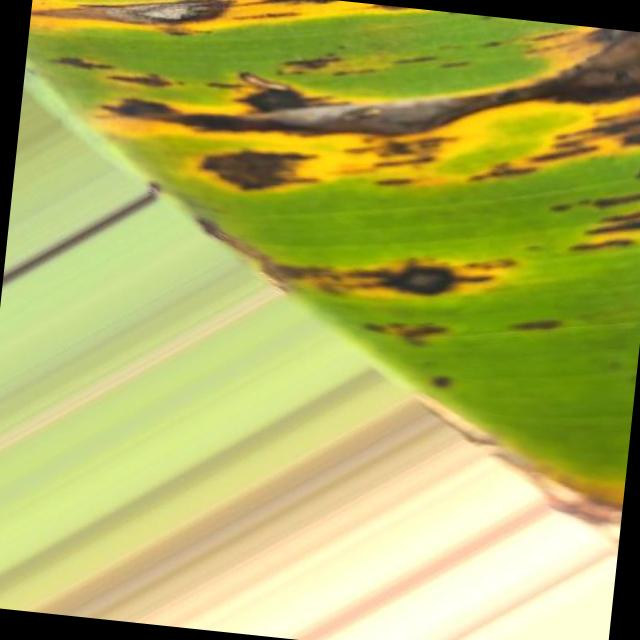Banana_Black_Sigatoka: (180, 120, 640, 358), (22, 0, 640, 156)
